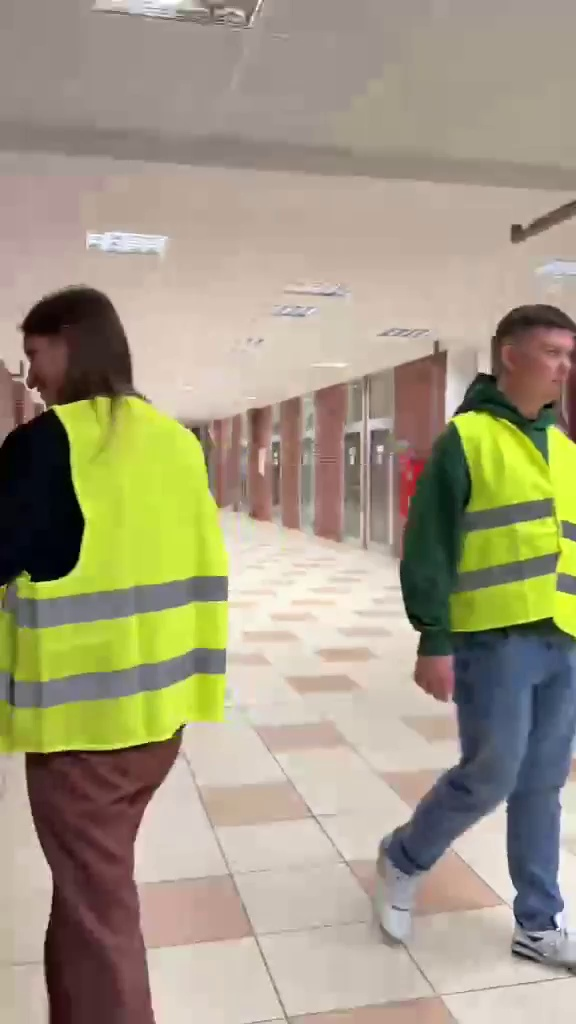vest: (0, 294, 225, 999), (384, 304, 576, 959)
